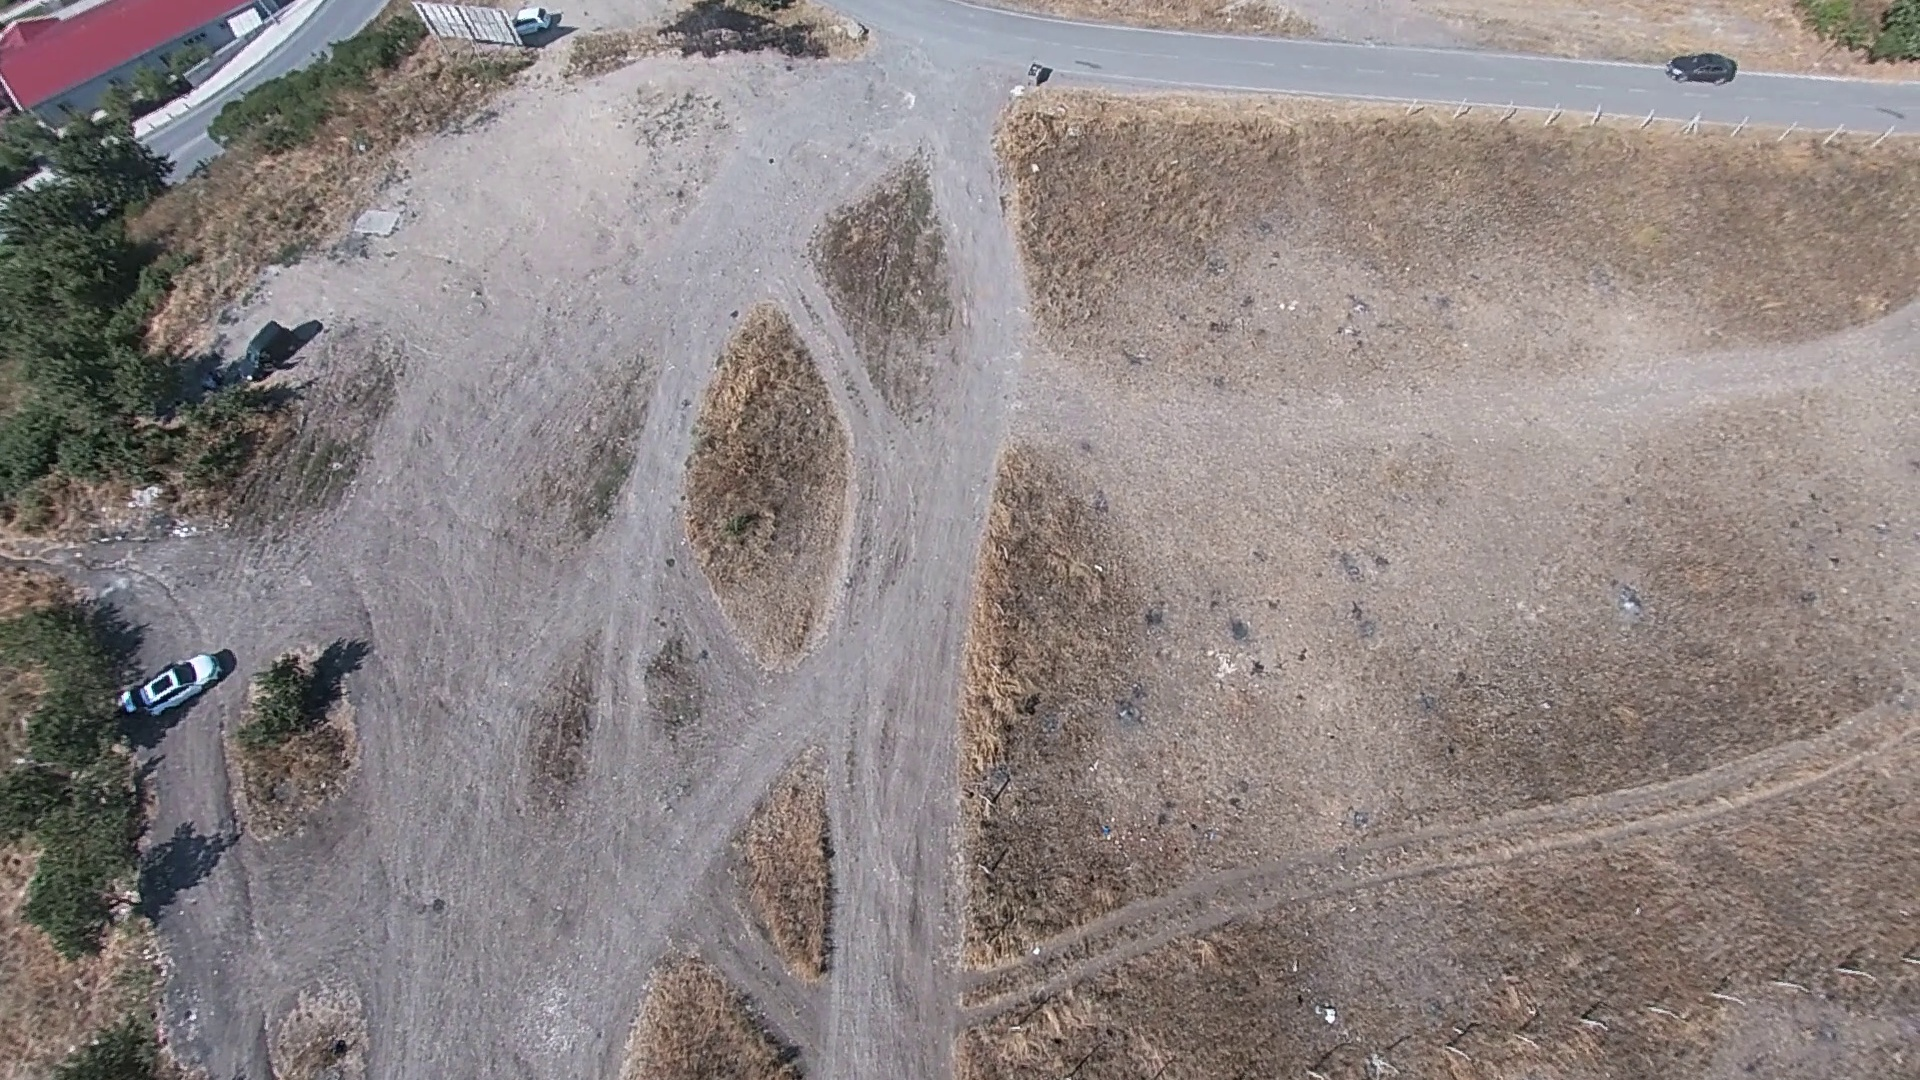arac: (120, 648, 232, 720), (238, 317, 293, 381), (1657, 53, 1738, 84)
insan: (507, 5, 551, 37)
